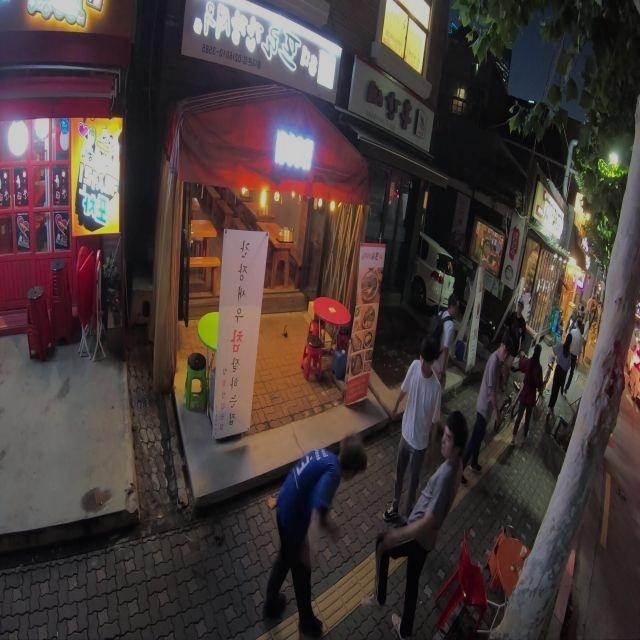fight: (258, 404, 470, 639)
non-fight: (389, 335, 444, 527), (463, 332, 512, 478), (547, 320, 579, 434), (511, 337, 543, 446)
